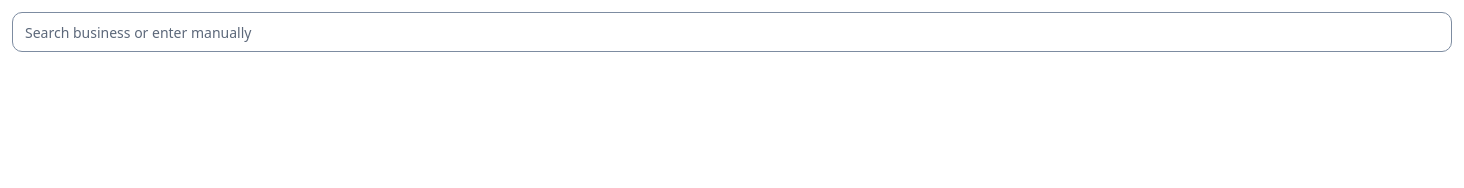
Test: company box on the job form › lists results and notes they may be incomplete when Google is limited
Type "acme" into the field with placeholder "Search business or enter manually" at (732, 32), box [12,12,1452,52]
Wait 500 ms
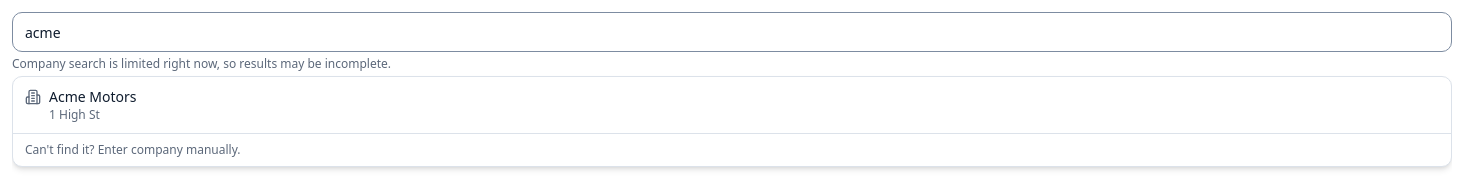
Expected: the text "Acme Motors" is shown, [49,87,136,107]
Expected: the message shows "may be incomplete", [12,55,391,72]
